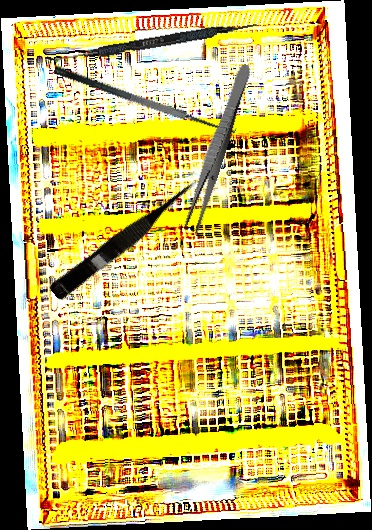Dressing Forceps: (180, 60, 254, 237)
Micro Scissor: (48, 174, 205, 305)
Spatula Surgical: (52, 49, 241, 144), (46, 15, 259, 70)
